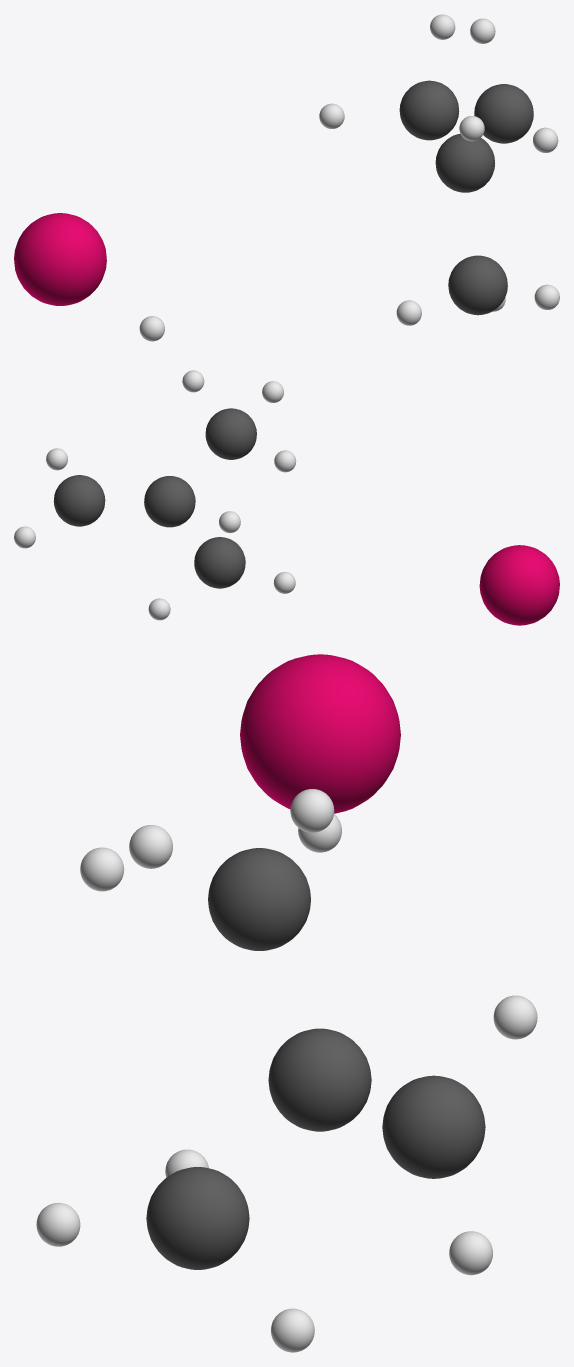
The model's file is AdE_Butene.fbx.
3 renders of one model, top to bottom at view 1: azimuth 30°, elevation 25°; view 2: azimuth 150°, elevation 25°; view 3: azimuth 270°, elevation 25°, orthographic. The views are drawn at different scales.
Visible parts, largest first — view 1: Br13, C09, C05, C02, C01, H03, H12, H14, H06, H07, H04, H10 (+1 smaller); view 2: Br13, C01, C09, C05, C02, H04, H03, H10, H12, H08, H06, H11 (+1 smaller); view 3: Br13, C01, C05, C02, C09, H03, H11, H06, H08, H12, H04, H14 (+1 smaller).
Boxes of the visible parts, x1,y1,x2,y2 form: Br13: [14, 213, 106, 305]; C09: [399, 80, 459, 140]; C05: [448, 255, 507, 315]; C02: [474, 84, 533, 143]; C01: [435, 134, 494, 192]; H03: [470, 18, 495, 43]; H12: [430, 14, 455, 39]; H14: [139, 316, 164, 341]; H06: [534, 284, 559, 309]; H07: [396, 300, 421, 325]; H04: [533, 127, 558, 152]; H10: [319, 103, 344, 128]; Br13: [479, 545, 559, 625]; C01: [144, 476, 195, 527]; C09: [205, 408, 256, 459]; C05: [194, 537, 245, 588]; C02: [53, 475, 105, 526]; H04: [14, 526, 35, 548]; H03: [46, 448, 67, 470]; H10: [274, 450, 296, 472]; H12: [182, 370, 204, 392]; H08: [148, 598, 170, 620]; H06: [219, 511, 240, 533]; H11: [262, 381, 283, 402]; Br13: [240, 654, 400, 813]; C01: [268, 1028, 371, 1131]; C05: [146, 1167, 249, 1269]; C02: [382, 1075, 485, 1178]; C09: [208, 848, 310, 950]; H03: [493, 995, 537, 1039]; H11: [80, 847, 124, 891]; H06: [36, 1202, 80, 1246]; H08: [271, 1308, 314, 1352]; H12: [290, 789, 334, 832]; H04: [449, 1231, 492, 1275]; H14: [129, 825, 172, 868].
Bounding box in the file's own units: 841 × 418 × 364.
